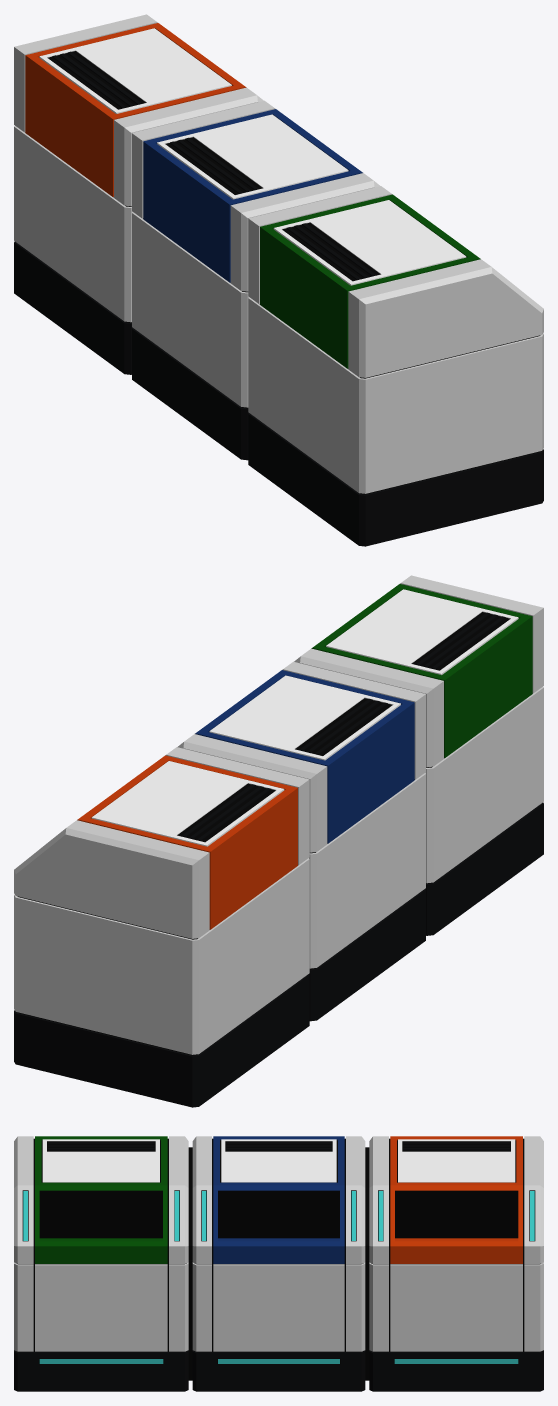
File: SM_RecyclingStation.obj
3 views of the same model, one above another, from view 1: azimuth 30°, elevation 25°; view 2: azimuth 150°, elevation 25°; view 3: azimuth 270°, elevation 25° (orthographic). The views are drawn at different scales.
Parts seen in each view (by area): view 1: SM_RecyclingStation; view 2: SM_RecyclingStation; view 3: SM_RecyclingStation.
Boxes of the visible parts, x1,y1,x2,y2 form: SM_RecyclingStation: [14, 14, 543, 546]; SM_RecyclingStation: [14, 575, 543, 1107]; SM_RecyclingStation: [14, 1136, 543, 1391].
Size of the model in its own units: 0.55 by 0.7025 by 1.8.
